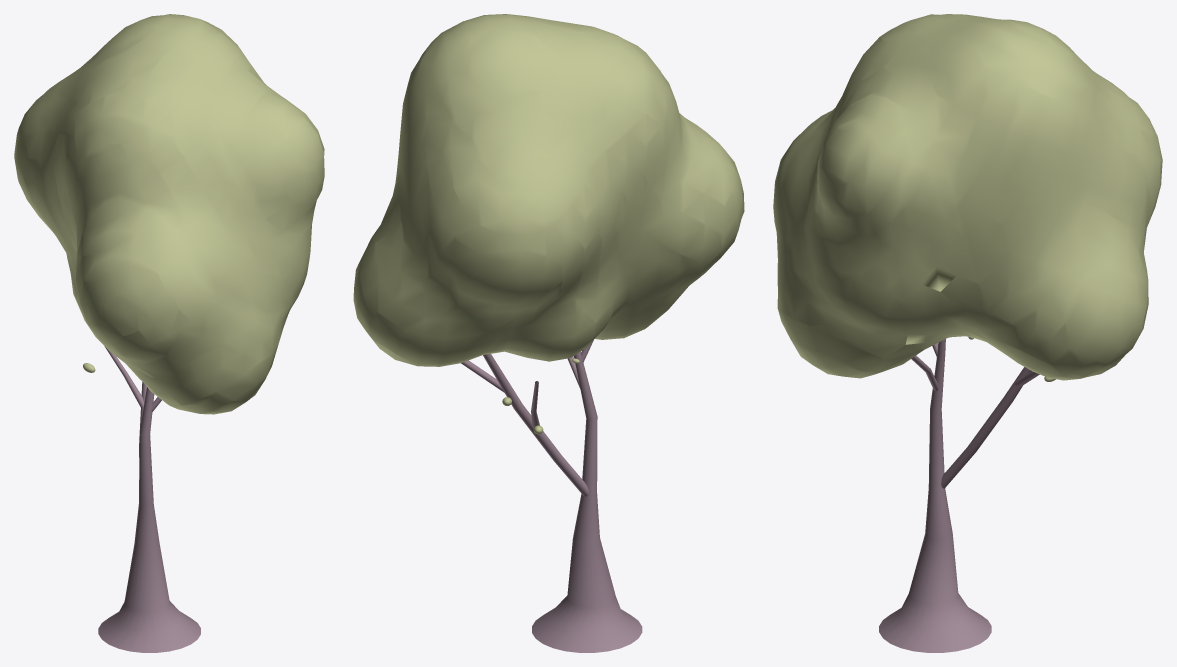
The model's file is Cartoon_Trees_Tree_1.glb.
The picture shows the model from 3 angles, left to right: view 1: azimuth 30°, elevation 25°; view 2: azimuth 150°, elevation 25°; view 3: azimuth 270°, elevation 25°; orthographic projection. The views are drawn at different scales.
Parts seen in each view (by area): view 1: Crone, Wood_8; view 2: Crone, Wood_8, Stick_13; view 3: Crone, Wood_8, Stick_13.
Part boxes in pixels (bbox=[...]): Crone: bbox=[14, 14, 324, 414]; Wood_8: bbox=[98, 387, 200, 652]; Crone: bbox=[353, 14, 744, 366]; Wood_8: bbox=[532, 351, 642, 652]; Stick_13: bbox=[483, 354, 588, 496]; Crone: bbox=[773, 14, 1162, 380]; Wood_8: bbox=[879, 339, 991, 652]; Stick_13: bbox=[941, 367, 1031, 488].
Bounding box in the file's own units: 53.7 × 119 × 66.92.
